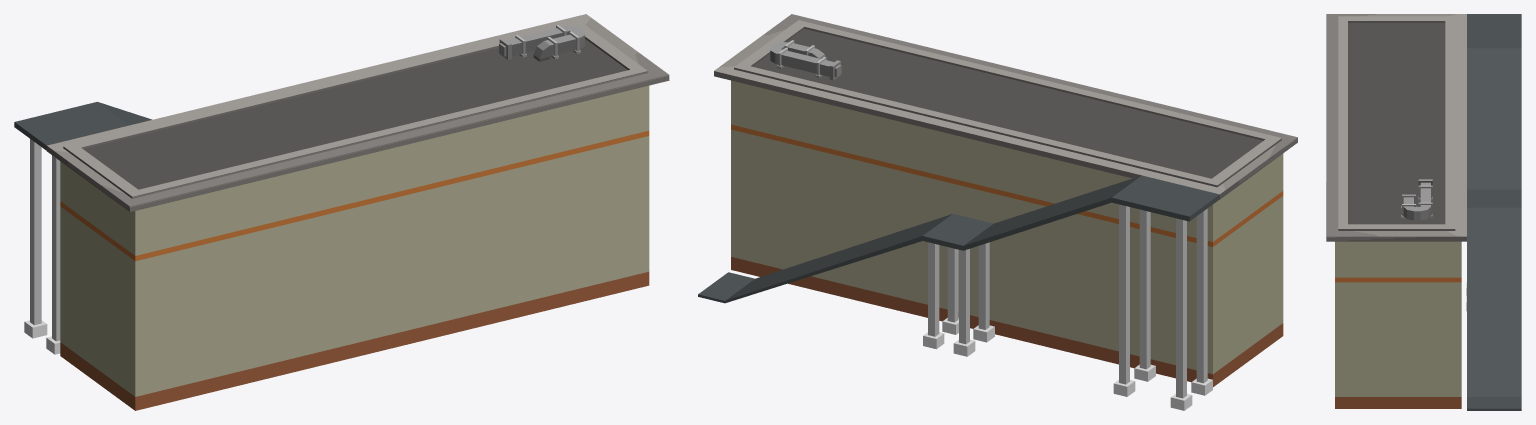
Rendered from SA_HighBuildimngWithRamp.fbx.
3 views of the same model, side by side, from view 1: azimuth 30°, elevation 25°; view 2: azimuth 150°, elevation 25°; view 3: azimuth 270°, elevation 25° (orthographic). The views are drawn at different scales.
Parts seen in each view (by area): view 1: HighBuildingWithRamp; view 2: HighBuildingWithRamp; view 3: HighBuildingWithRamp.
Part boxes in pixels (x1,y1,x2,y2): HighBuildingWithRamp: (14, 14, 669, 410); HighBuildingWithRamp: (698, 14, 1297, 410); HighBuildingWithRamp: (1326, 14, 1521, 410).
Size of the model in its own units: 37.07 by 15.05 by 13.75.
Materials: 2 (1 with a texture image).
